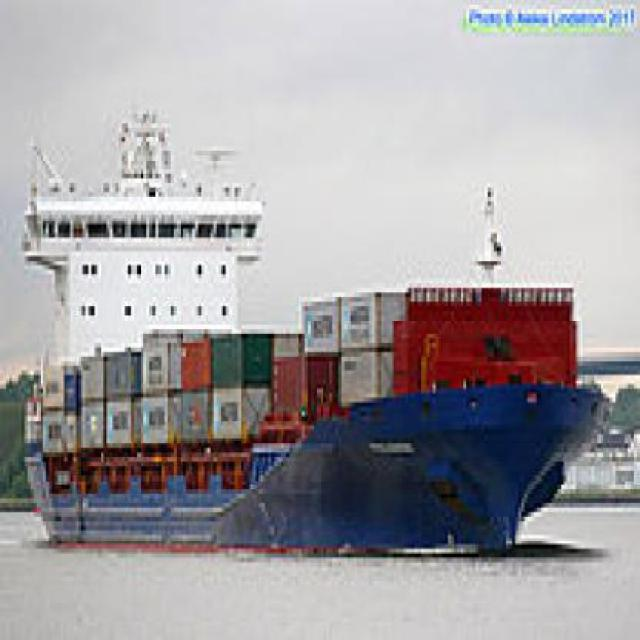container: (7, 97, 620, 577)
